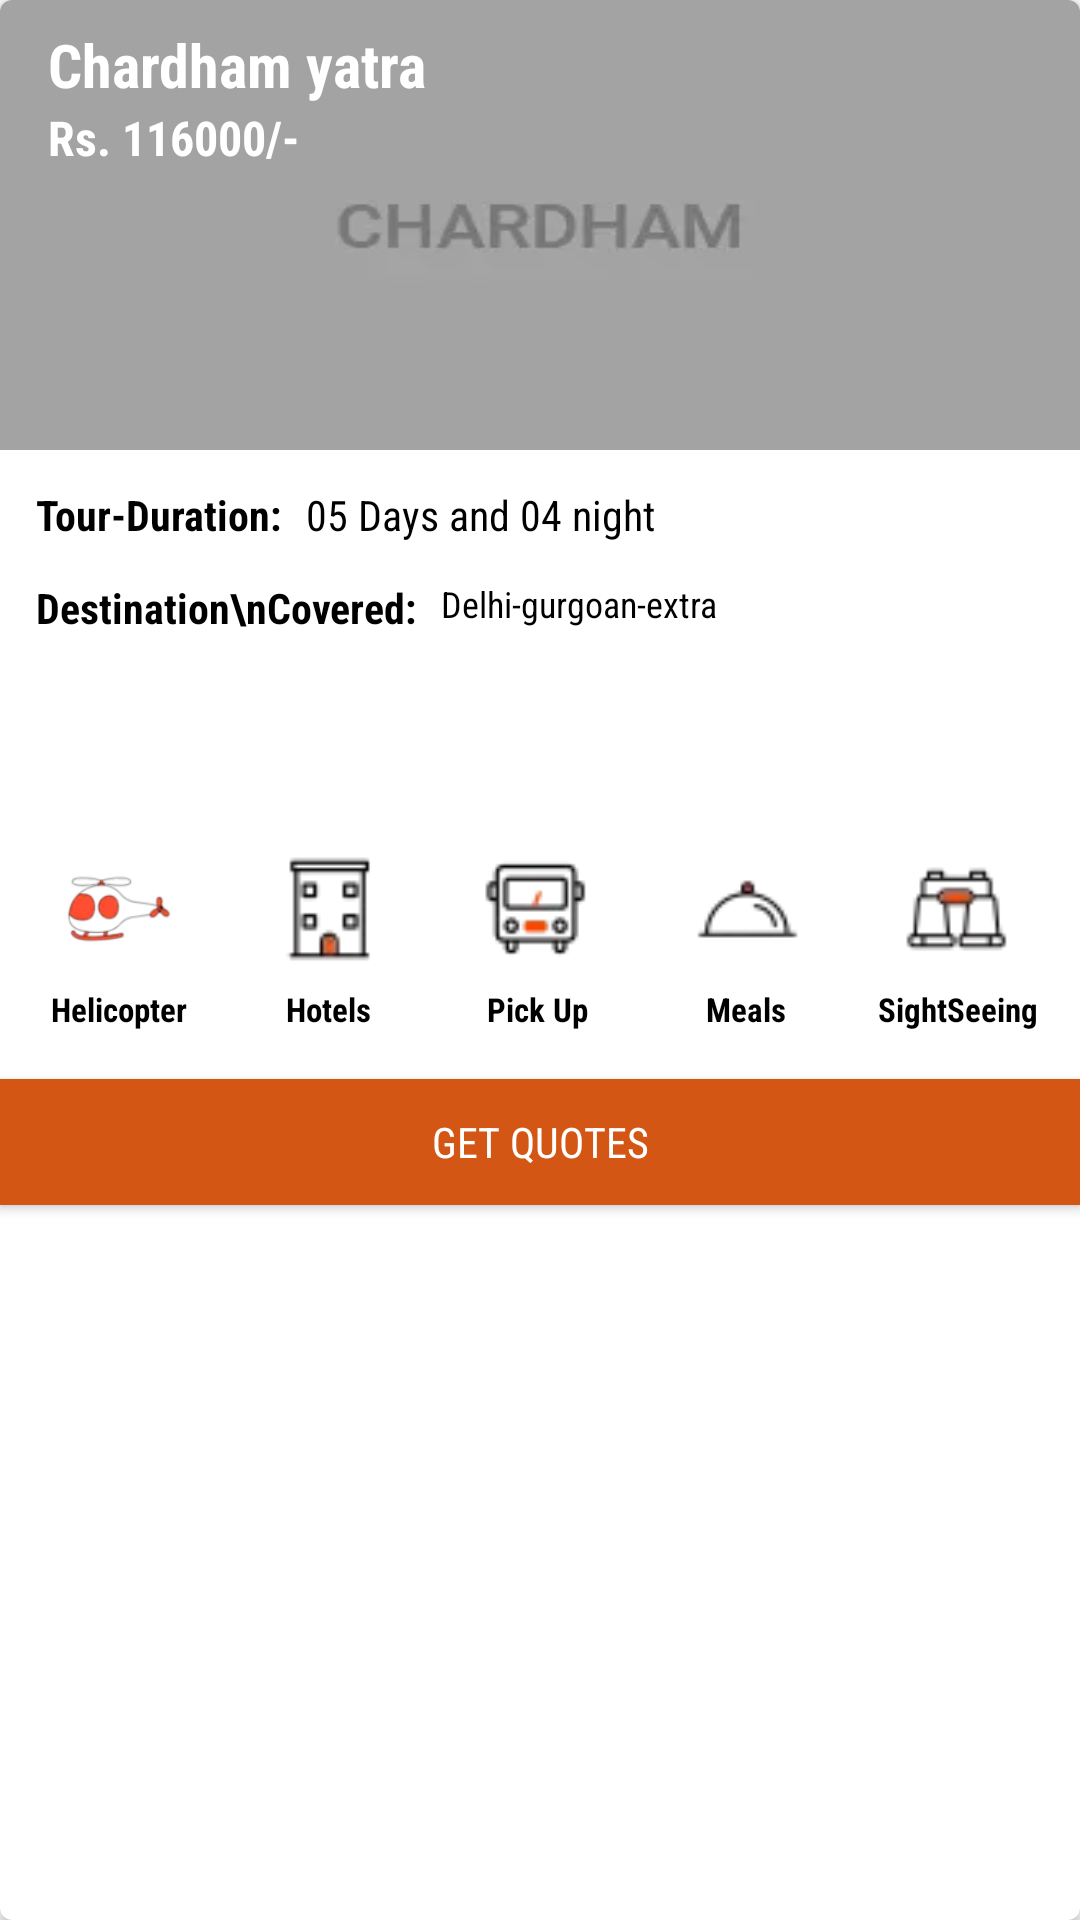

Locate icon controls on the screen. Image size 1080 x 1920, boxes as (x1, y1, x2, y2).
bus: (485, 863, 586, 955)
